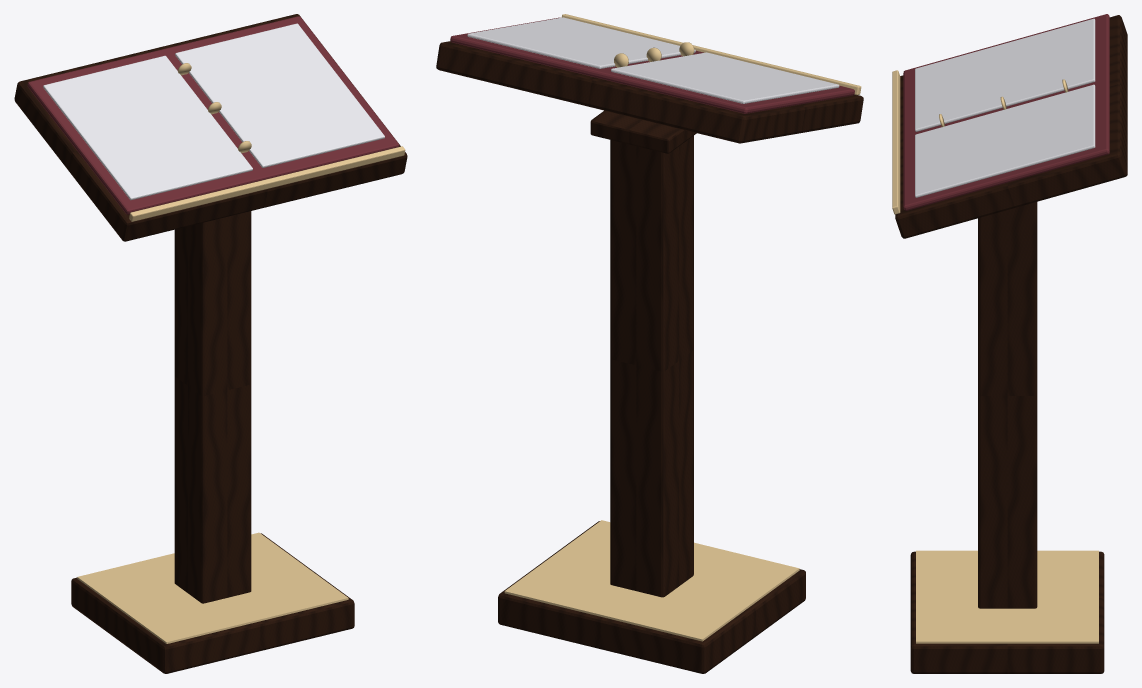
The model's file is binder_lectern.glb.
The picture shows the model from 3 angles, left to right: view 1: azimuth 30°, elevation 25°; view 2: azimuth 150°, elevation 25°; view 3: azimuth 270°, elevation 25°; orthographic projection. The views are drawn at different scales.
Visible parts, largest first — view 1: column.001, page_-1, page_1, base_trim, desk, binder_cover, base.001, desk_lip; view 2: column.001, base_trim, desk, base.001, page_-1, page_1, binder_cover, column_cap, desk_lip; view 3: column.001, base_trim, page_1, page_-1, desk, base.001, binder_cover, desk_lip.
Boxes of the visible parts, x1,y1,x2,y2 form: column.001: (174, 211, 251, 603); page_-1: (43, 55, 252, 200); page_1: (175, 23, 384, 167); base_trim: (77, 532, 348, 643); desk: (14, 14, 407, 241); binder_cover: (27, 16, 399, 214); base.001: (71, 533, 354, 673); desk_lip: (129, 146, 405, 221); column.001: (610, 136, 693, 597); base_trim: (504, 520, 799, 641); desk: (436, 41, 863, 143); base.001: (498, 521, 805, 673); page_-1: (611, 52, 839, 103); page_1: (467, 17, 695, 68); binder_cover: (450, 17, 854, 113); column_cap: (590, 110, 696, 153); desk_lip: (561, 14, 861, 94); column.001: (978, 202, 1037, 608); base_trim: (916, 550, 1098, 643); page_1: (915, 84, 1095, 197); page_-1: (915, 18, 1095, 131); desk: (895, 15, 1127, 238); base.001: (910, 551, 1104, 673); binder_cover: (903, 14, 1109, 210); desk_lip: (892, 70, 900, 214).
Size of the model in its own units: 0.62 by 1.12 by 0.4375.
4 materials, 1 textured.
